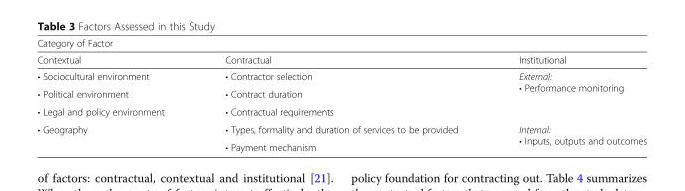table: (36, 37, 646, 152)
table column: (194, 37, 487, 152), (487, 37, 646, 152), (36, 37, 194, 152)
table column header: (36, 37, 646, 67)
table row: (36, 84, 646, 102), (36, 102, 646, 120), (36, 67, 646, 84), (36, 120, 646, 137), (36, 51, 646, 67), (36, 137, 646, 152), (36, 37, 646, 51)
table spanning cell: (36, 37, 646, 51), (487, 67, 646, 120), (487, 120, 646, 152), (36, 120, 194, 152)
